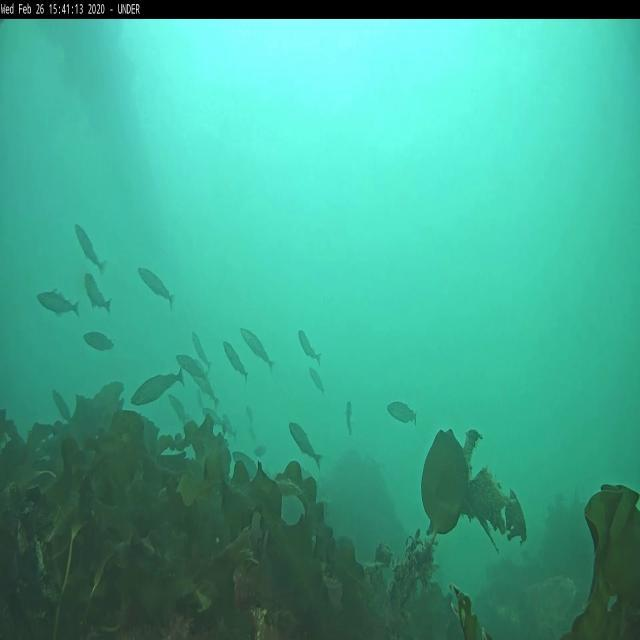fish: (132, 370, 184, 408), (72, 220, 105, 270), (290, 420, 323, 468), (241, 329, 275, 372), (138, 266, 174, 304), (34, 290, 80, 316), (223, 341, 248, 381), (85, 279, 114, 311), (387, 400, 416, 425), (298, 328, 320, 360), (175, 353, 202, 378), (192, 331, 210, 367), (82, 332, 116, 350), (202, 408, 225, 433), (234, 450, 257, 472), (308, 366, 325, 394), (170, 398, 190, 420), (346, 400, 354, 437), (226, 415, 236, 437), (256, 445, 266, 459), (248, 408, 254, 420)
